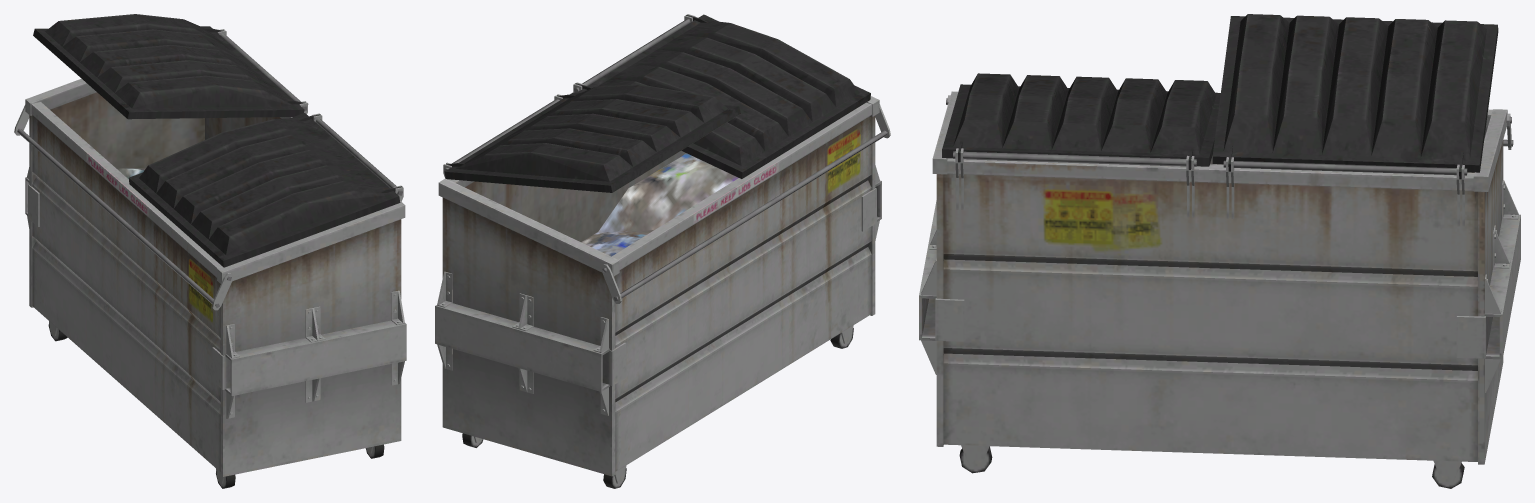
The model's file is ItemSpot.fbx.
The picture shows the model from 3 angles, left to right: view 1: azimuth 30°, elevation 25°; view 2: azimuth 150°, elevation 25°; view 3: azimuth 270°, elevation 25°; orthographic projection. The views are drawn at different scales.
Parts seen in each view (by area): view 1: ItemBox_Dumpster_01; view 2: ItemBox_Dumpster_01; view 3: ItemBox_Dumpster_01.
Boxes of the visible parts, box(x1,y1,x2,y2) form: ItemBox_Dumpster_01: box(14, 14, 406, 488); ItemBox_Dumpster_01: box(435, 14, 890, 488); ItemBox_Dumpster_01: box(919, 14, 1520, 488).
Bounding box in the file's own units: 1.29 × 1.74 × 2.48.
Materials: 1 (1 with a texture image).
